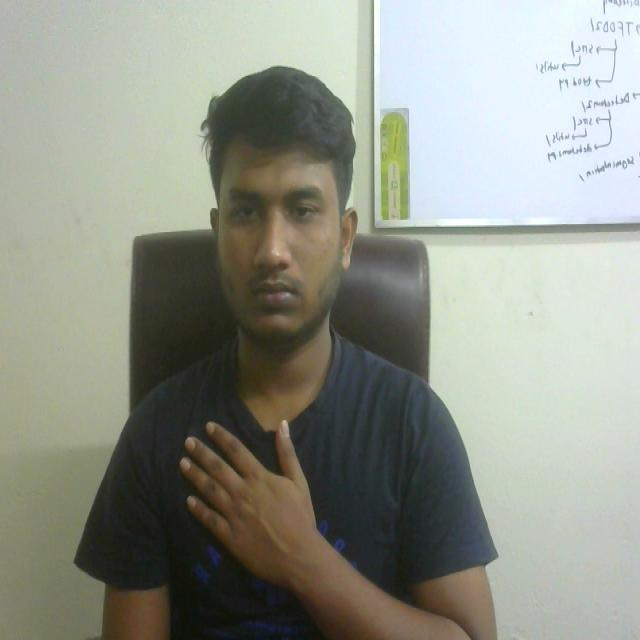E: (161, 398, 336, 590)
